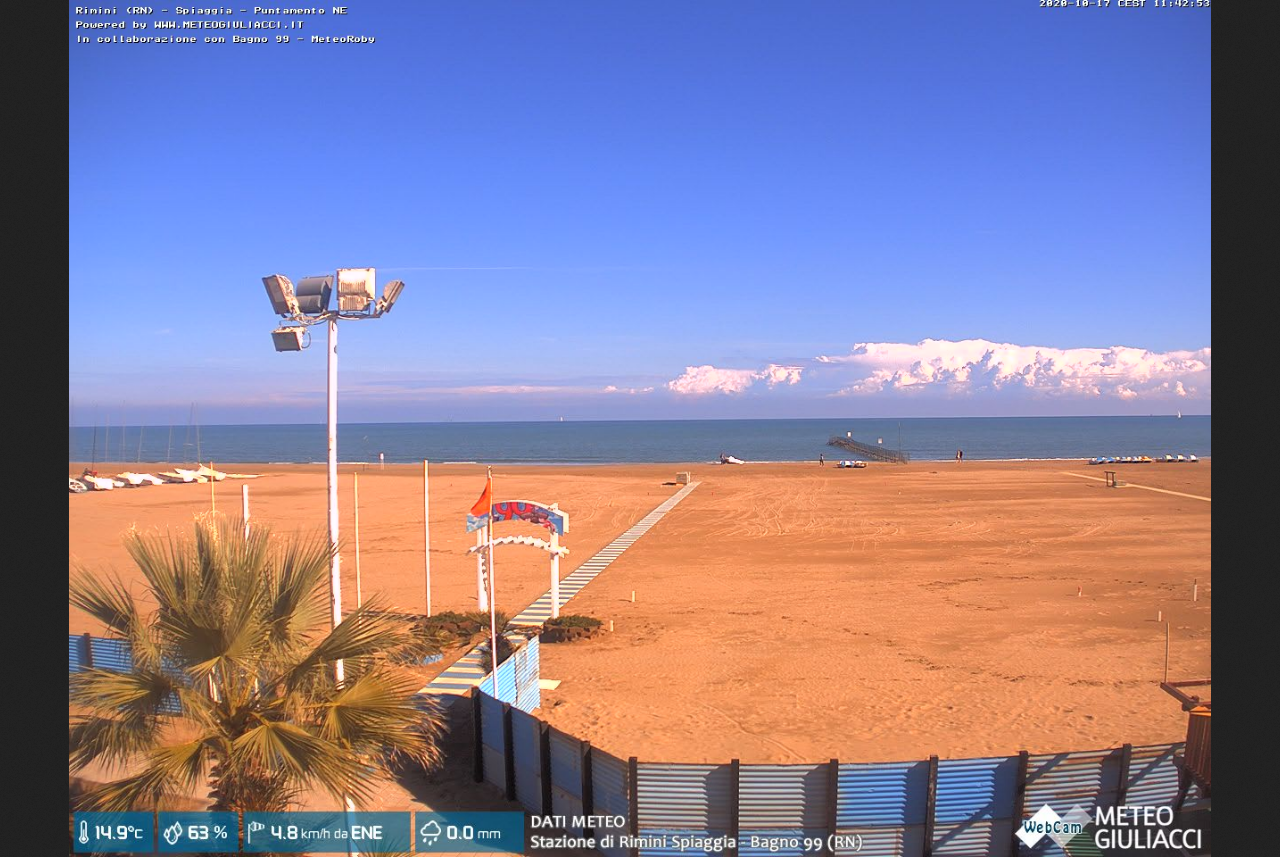no: (469, 476, 493, 524)
